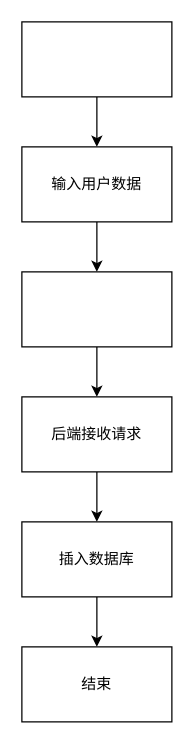
Image size: 194x744. Some labels were removed from this diagram. Each missing label, with the centre of its shape:
"发送请求" belongs at point 96,309.
"开始" belongs at point 96,59.
